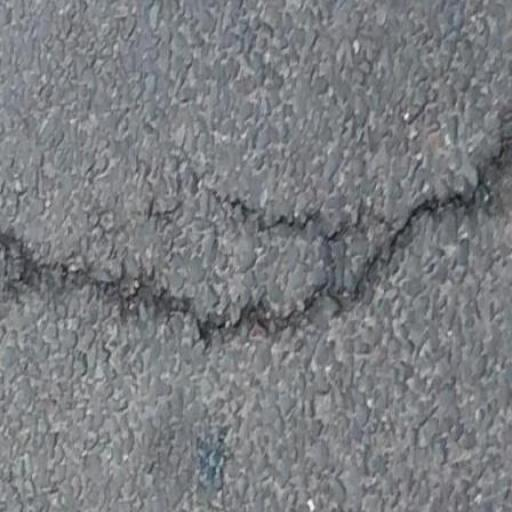spalling: (2, 129, 511, 346)
